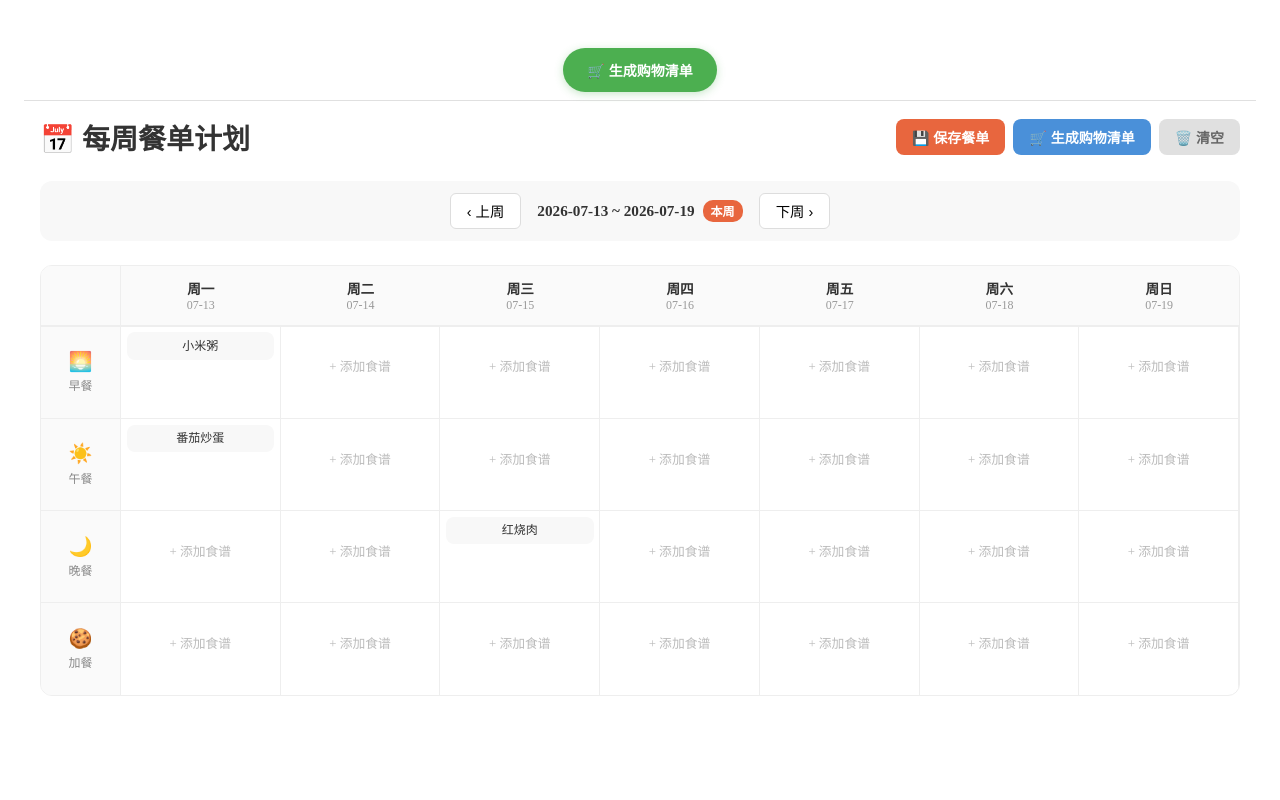
Test: MealPlannerPage › 搜索弹窗 › 搜索弹窗关闭按钮
Click the 1st text "+ 添加食谱": [360, 367] box 329,360 -> 391,374
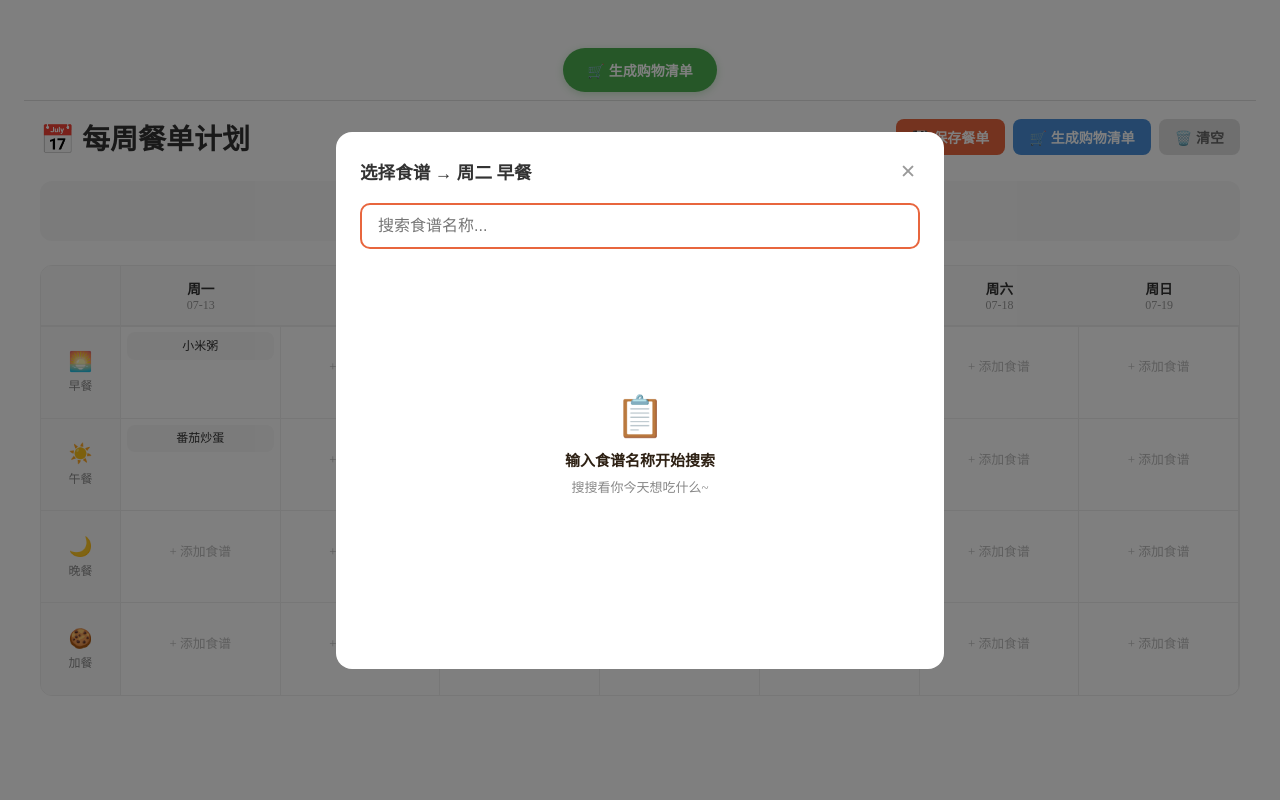
expect the field with placeholder "搜索食谱名称..." is shown: met, box 360,202 -> 920,248
Note: The last one is likely the search close button
Click the button "✕": [908, 171] box 896,156 -> 920,186
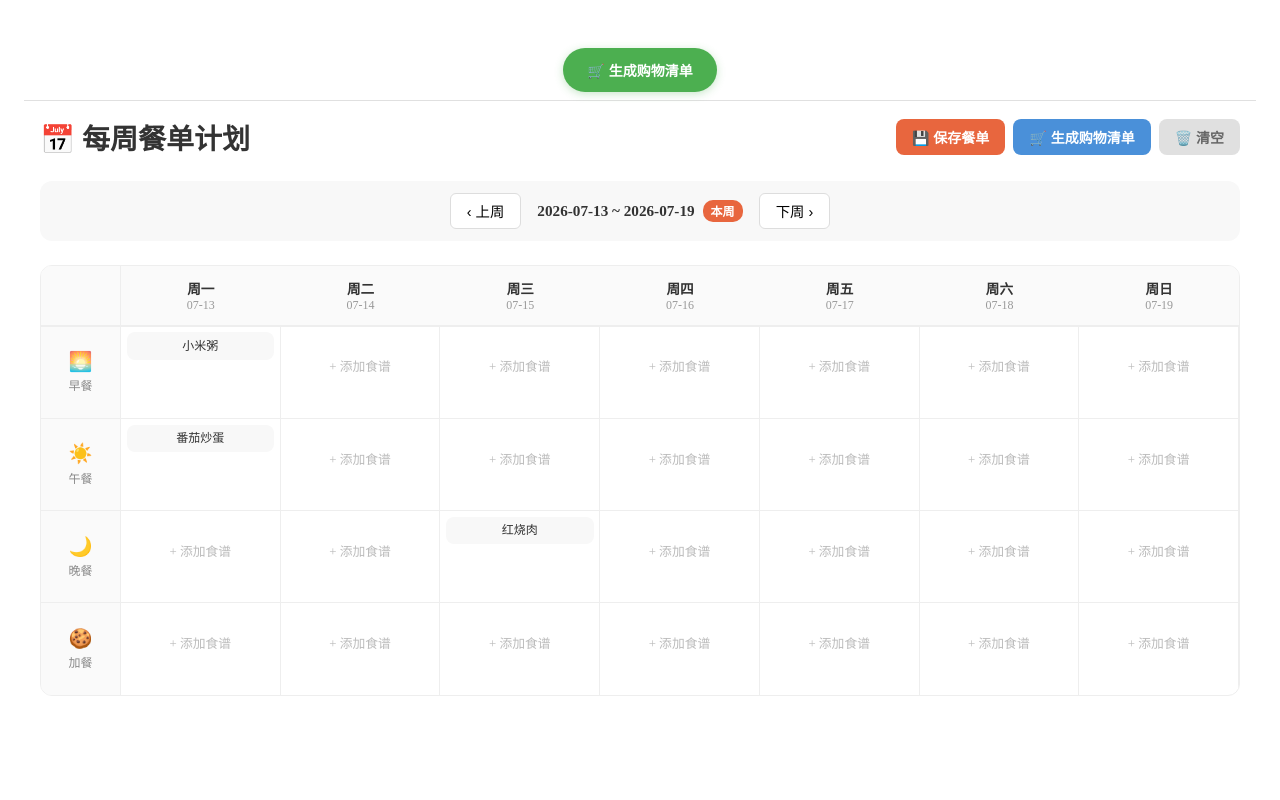
expect the field with placeholder "搜索食谱名称..." is gone: met
